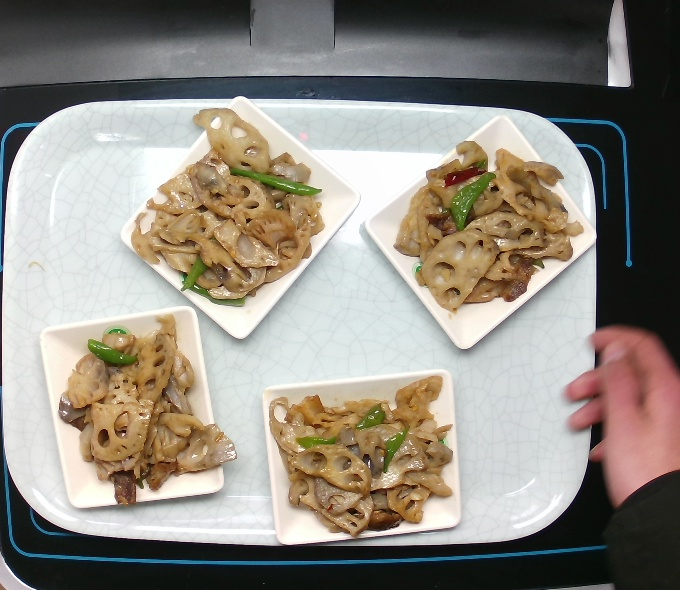wcq-OuPianChaoRou: (123, 99, 330, 313), (386, 131, 591, 323), (54, 312, 239, 511), (264, 372, 459, 544)
